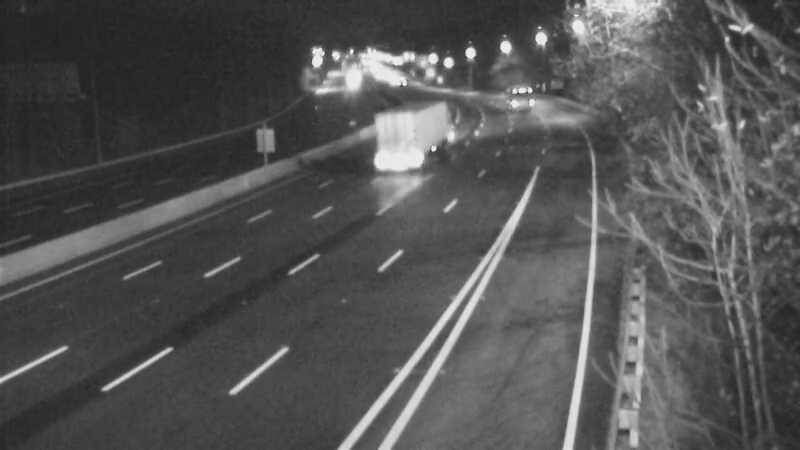vehicle: (484, 67, 534, 117), (372, 111, 422, 161), (327, 53, 377, 103)
